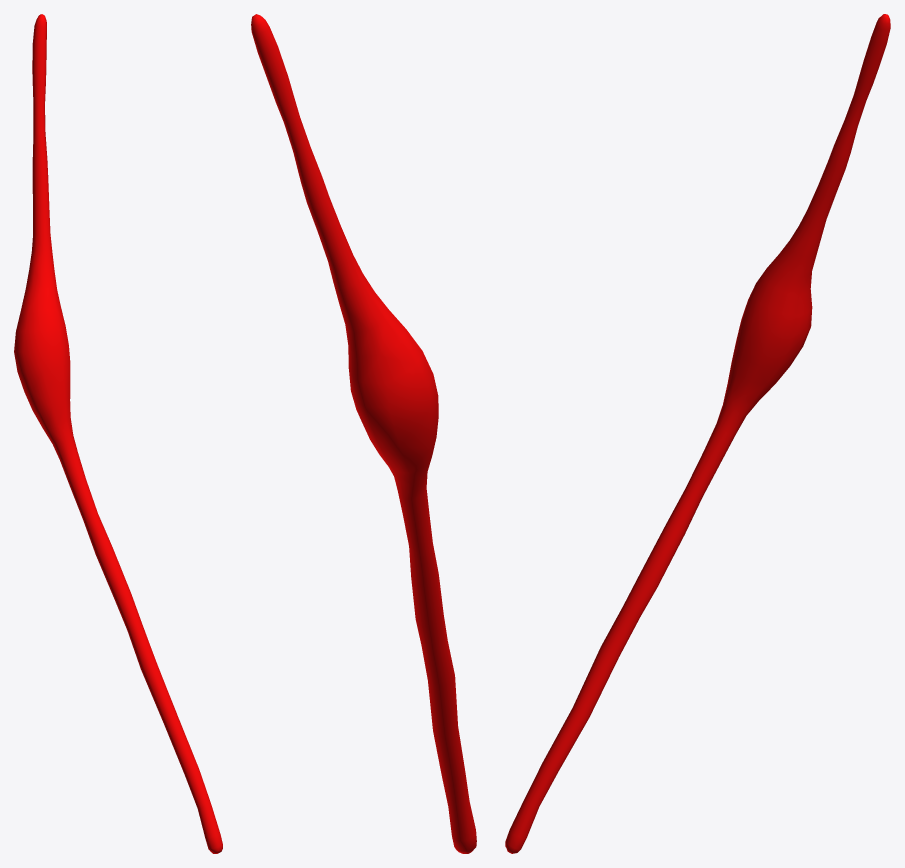
Rendered from n_cnvnuc.obj.
The picture shows the model from 3 angles, left to right: view 1: azimuth 30°, elevation 25°; view 2: azimuth 150°, elevation 25°; view 3: azimuth 270°, elevation 25°; orthographic projection. The views are drawn at different scales.
Parts seen in each view (by area): view 1: Group9703; view 2: Group9703; view 3: Group9703.
Boxes of the visible parts, x1,y1,x2,y2 form: Group9703: (14,14,222,853); Group9703: (251,14,476,853); Group9703: (505,14,890,853).
Size of the model in its own units: 104 by 765 by 321.
1 material, 1 textured.
